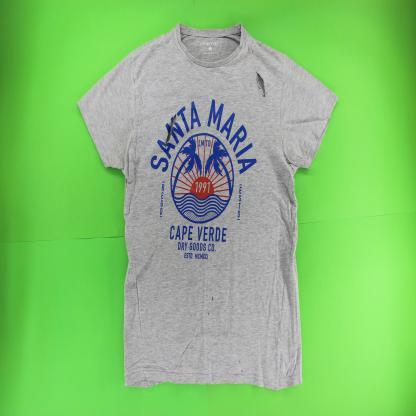hole: (163, 112, 178, 150), (254, 69, 267, 100)
